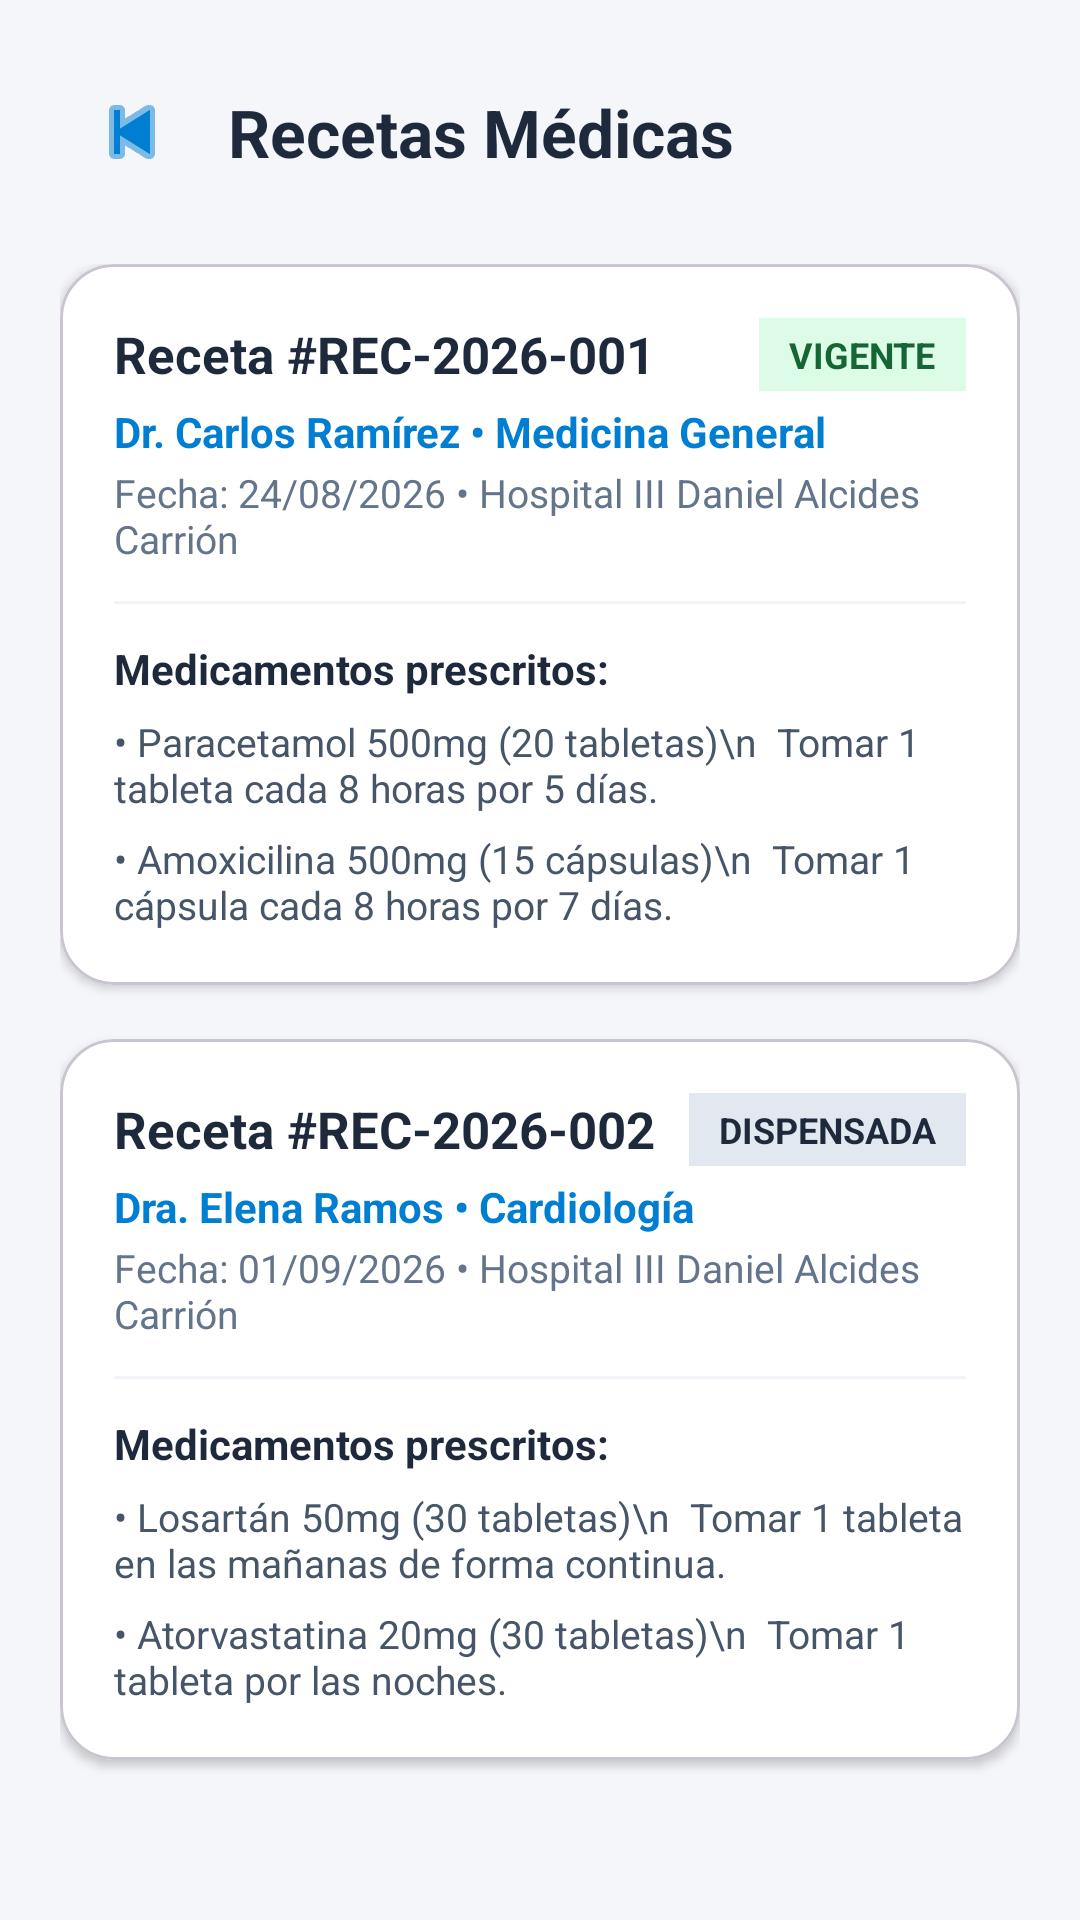

Locate icon controls on the screen. Image size 1080px x 1920px, boxes as (x1, y1, x2, y2).
Volver: (109, 105, 155, 159)
